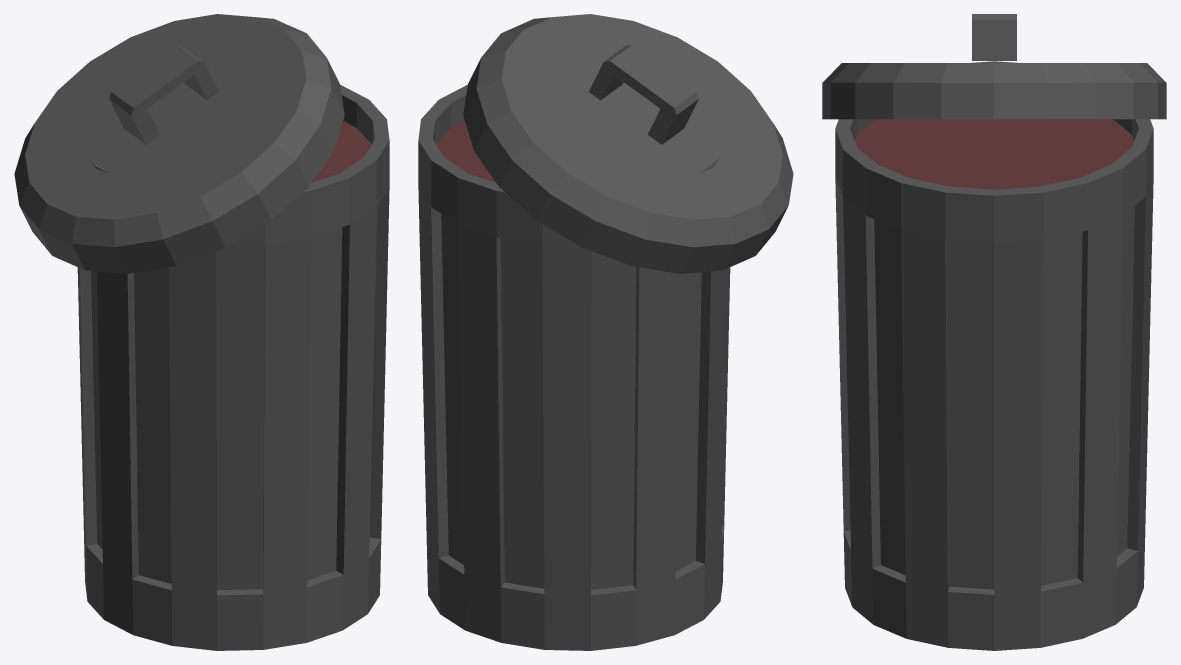
Rendered from TrashCan_Mesh.fbx.
The picture shows the model from 3 angles, left to right: view 1: azimuth 30°, elevation 25°; view 2: azimuth 150°, elevation 25°; view 3: azimuth 270°, elevation 25°; orthographic projection.
Visible parts, largest first — view 1: TrashCan_Mesh; view 2: TrashCan_Mesh; view 3: TrashCan_Mesh.
Boxes of the visible parts, x1,y1,x2,y2 form: TrashCan_Mesh: (14,14,389,650); TrashCan_Mesh: (418,14,793,650); TrashCan_Mesh: (822,14,1166,650).
Size of the model in its own units: 5.32 by 8.41 by 4.76.
